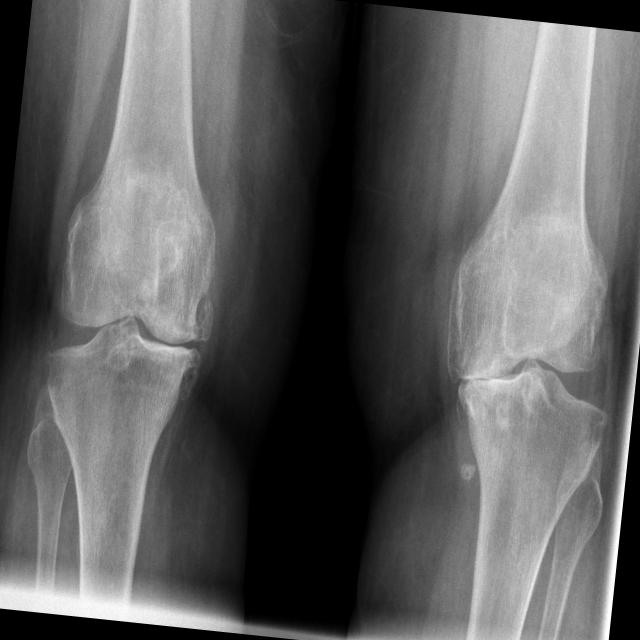Knee: (436, 243, 627, 472), (37, 209, 223, 427)
